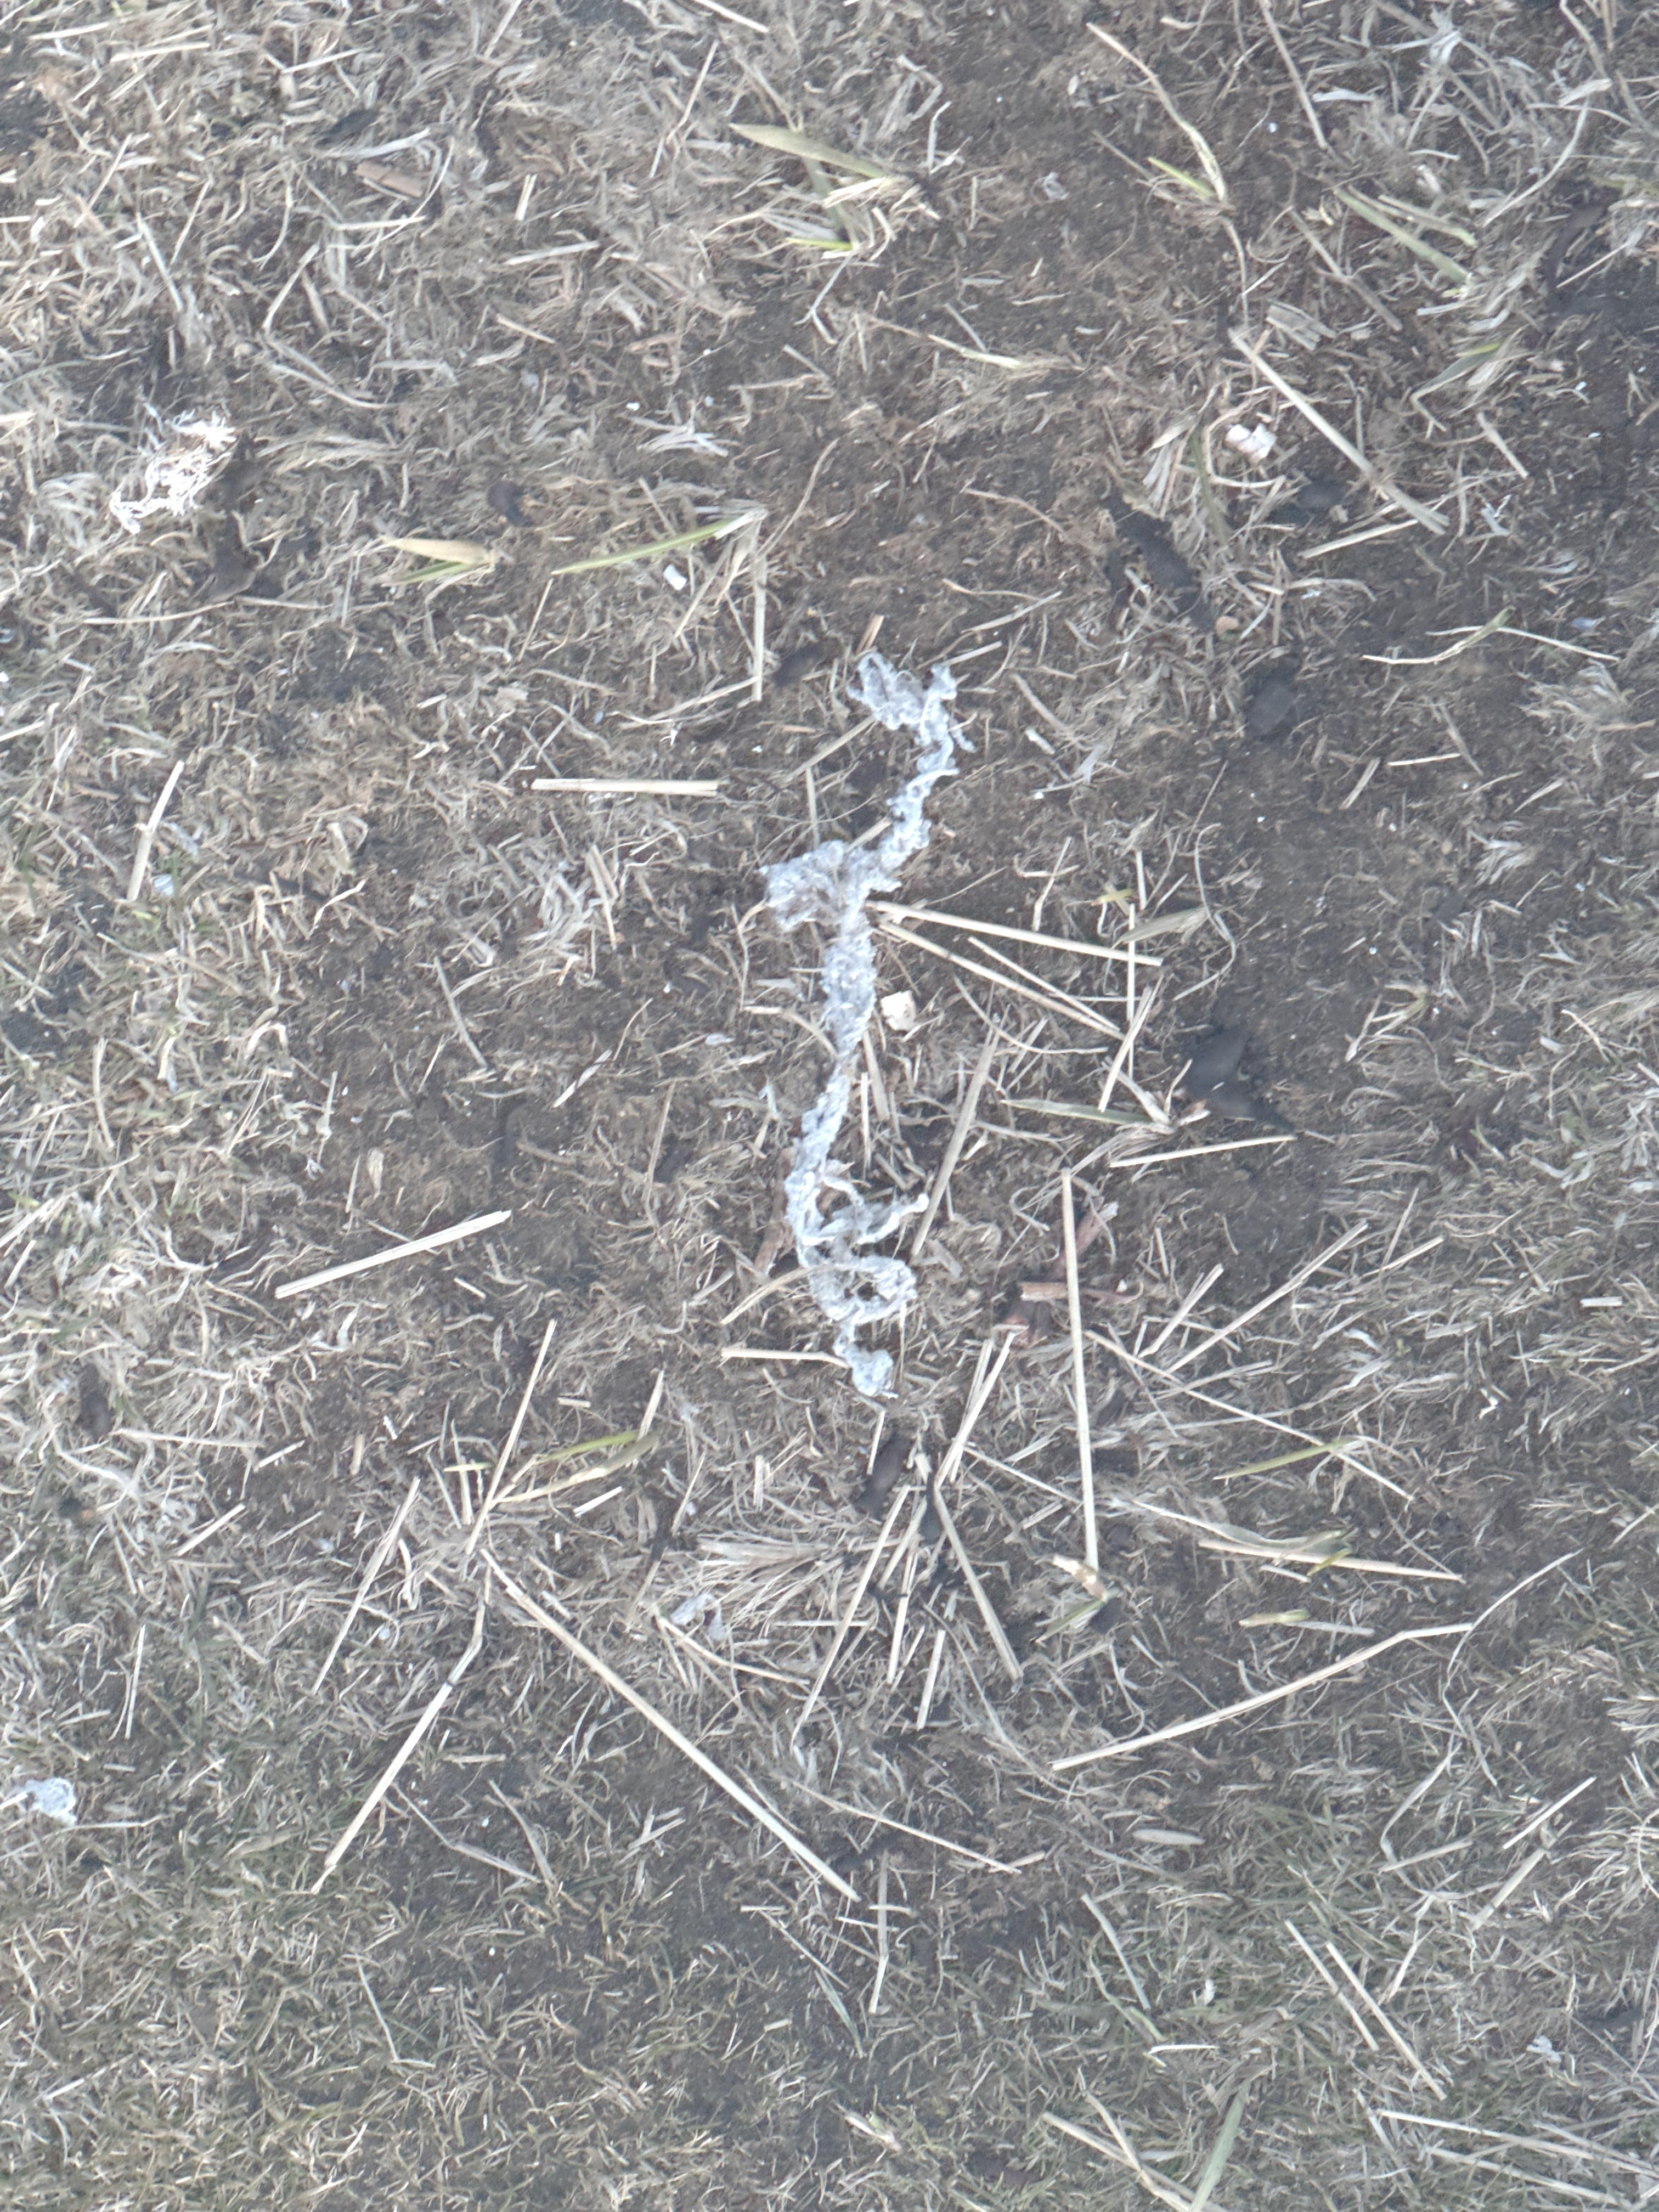trash: (765, 652, 963, 1396)
